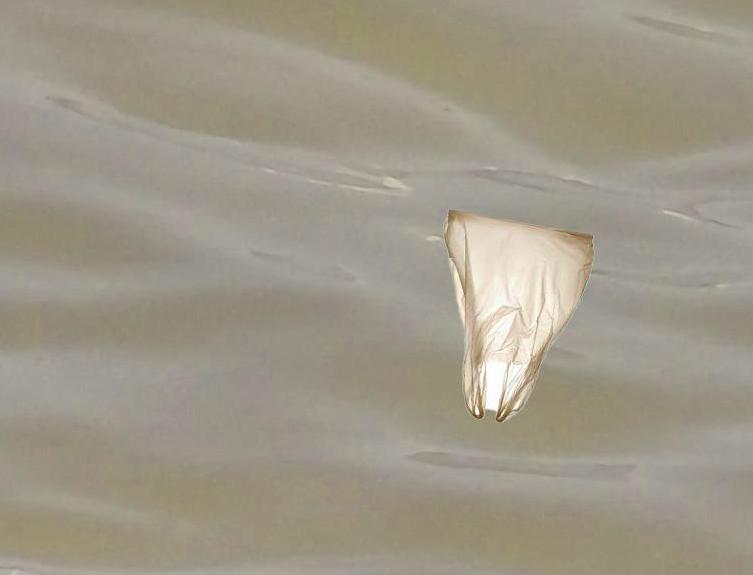Trash: (436, 208, 597, 424)
